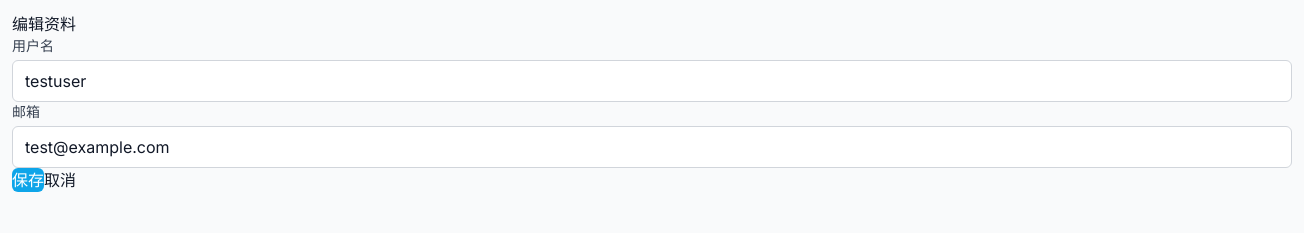
Test: ProfileForm - 字段验证 › 空用户名应该显示验证错误
The width and height of the screenshot is (1304, 233).
Clear the field labelled "用户名". click: (652, 81)
box: [12,60,1292,102]
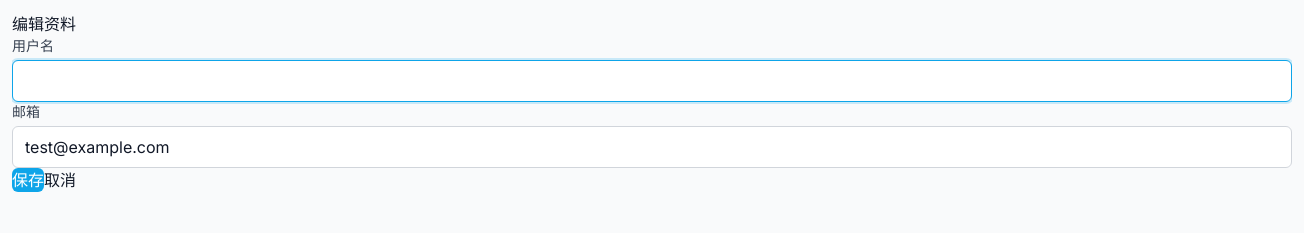
Click the button "保存". click: (28, 180)
box: [12,168,44,192]
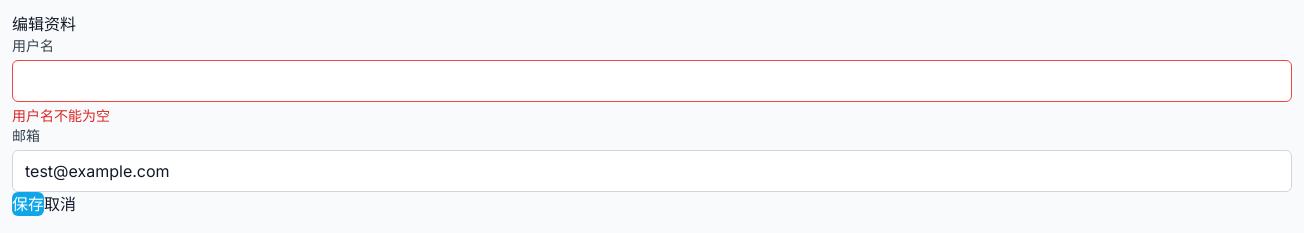
Result: the text "用户名不能为空" is shown at [12,107,110,124]
